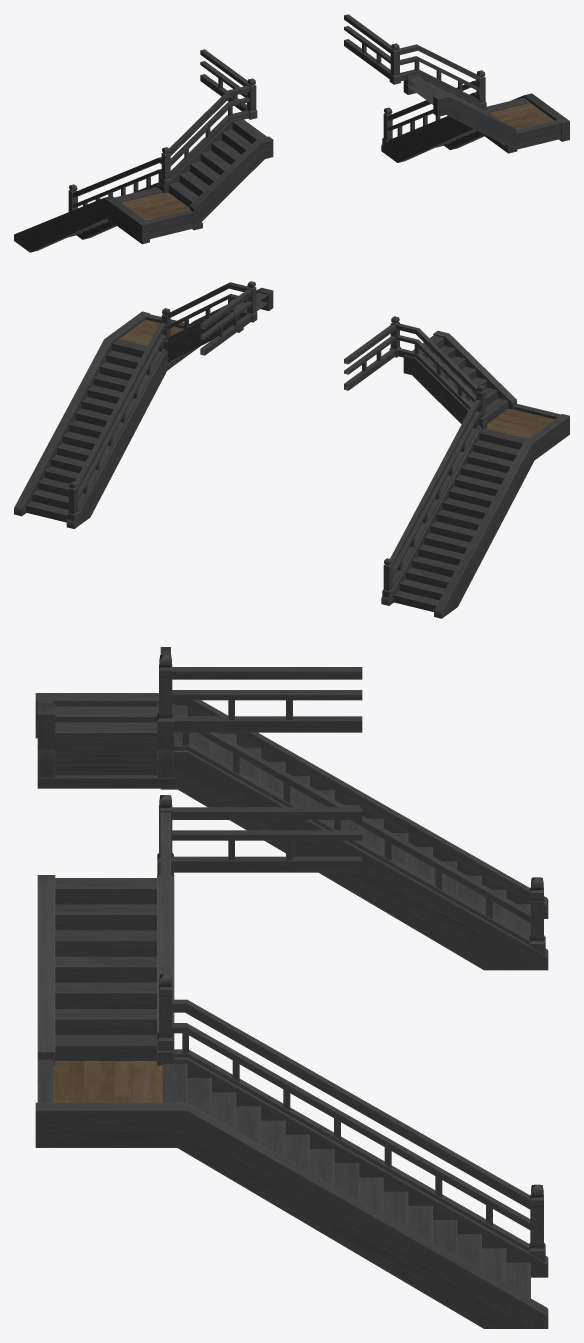
File: Homeworld_Interior_Dq_Room_D_Stair_01_Vo.fbx
3 views of the same model, one above another, from view 1: azimuth 30°, elevation 25°; view 2: azimuth 150°, elevation 25°; view 3: azimuth 270°, elevation 25° (orthographic). The views are drawn at different scales.
Parts seen in each view (by area): view 1: Homeworld_Interior_Dq_Room_D_Stair_01_Vo; view 2: Homeworld_Interior_Dq_Room_D_Stair_01_Vo; view 3: Homeworld_Interior_Dq_Room_D_Stair_01_Vo.
Boxes of the visible parts, bbox=[...] form: Homeworld_Interior_Dq_Room_D_Stair_01_Vo: bbox=[14, 14, 569, 252]; Homeworld_Interior_Dq_Room_D_Stair_01_Vo: bbox=[14, 281, 569, 618]; Homeworld_Interior_Dq_Room_D_Stair_01_Vo: bbox=[35, 647, 548, 1328].
Size of the model in its own units: 14.71 by 6.49 by 7.63.
